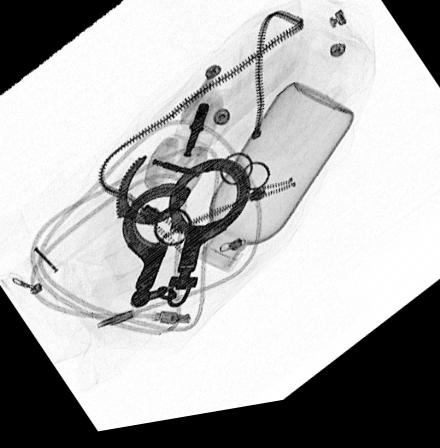HandCuffs: (113, 157, 254, 316)
